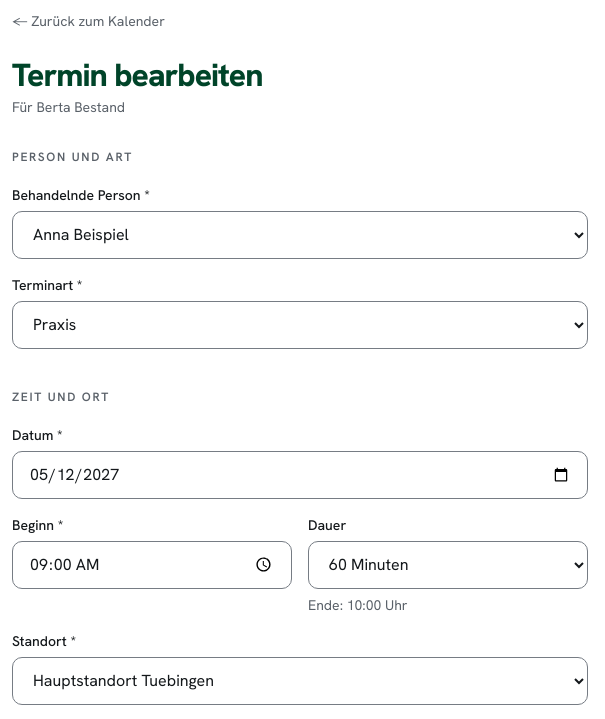
it: EditAppointmentPage › meldet fehlende Angaben in einer Zusammenfassung mit Fokus (UIK-02, TER-06)
Clear the time field labelled "Beginn *" at (152, 565), box [12,541,292,589]
(page scrolled)
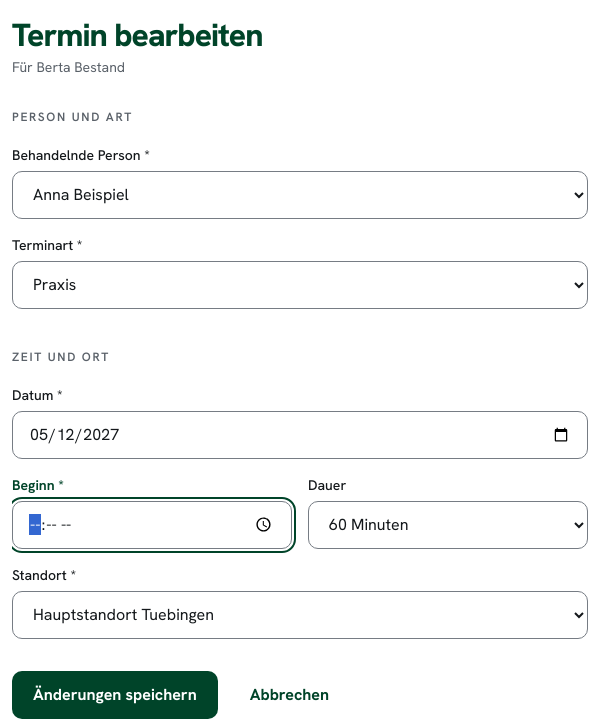
Click the button "Änderungen speichern" at (115, 695), box [12,671,218,718]
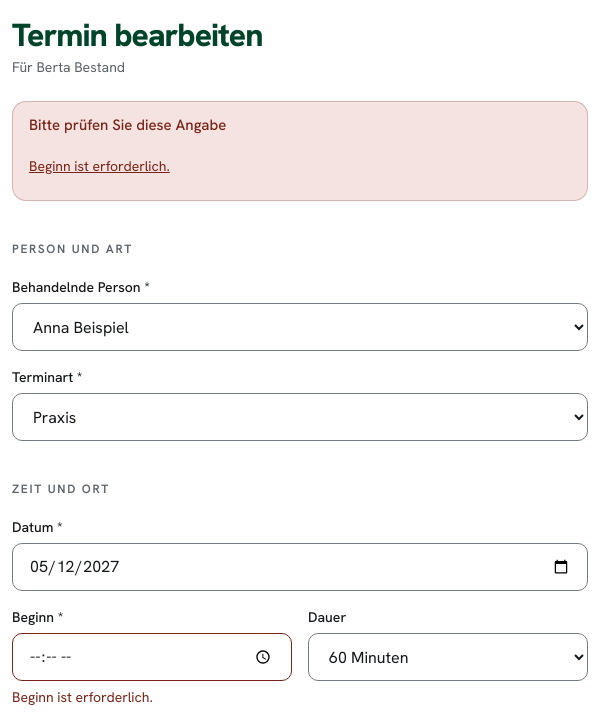
Now the link "Beginn ist erforderlich." is shown, box [29,157,170,175]
